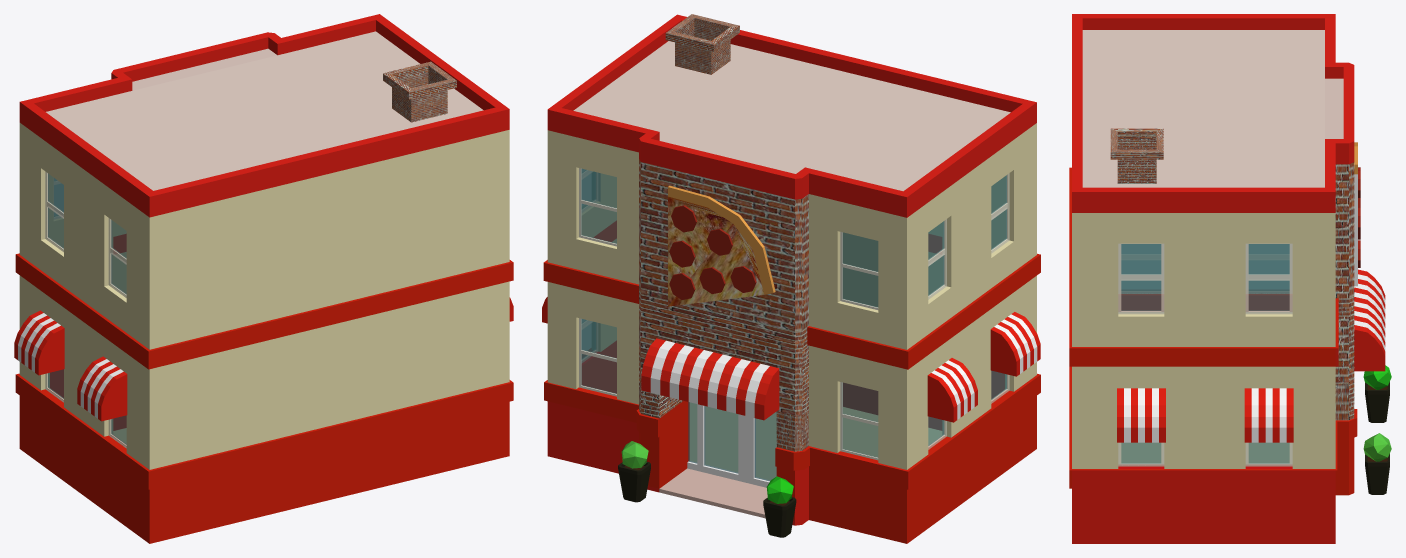
Rendered from pizzeria.glb.
The picture shows the model from 3 angles, left to right: view 1: azimuth 30°, elevation 25°; view 2: azimuth 150°, elevation 25°; view 3: azimuth 270°, elevation 25°; orthographic projection.
Parts seen in each view (by area): view 1: casa_10, tetto_0, tende laterali_1, Cube.007_3, vetri laterali_15, finestre laterali_12; view 2: casa_10, tetto_0, vetri_16, tenda frontale_2, pizza_4, tende laterali_1, vetri porta_14, vetri laterali_15, salame_5, Cube.007_3, porta_13, finestre_11 (+4 smaller); view 3: casa_10, tetto_0, vetri laterali_15, tende laterali_1, finestre laterali_12, tenda frontale_2, Cube.007_3, Cube.001_8, Cube_6, Icosphere.001_9, pizza_4, Icosphere_7.
Part boxes in pixels (box(x1,y1,x2,y2)): casa_10: box(15, 123, 513, 543); tetto_0: box(19, 14, 509, 217); tende laterali_1: box(14, 297, 513, 421); Cube.007_3: box(383, 61, 456, 122); vetri laterali_15: box(48, 173, 126, 444); finestre laterali_12: box(45, 171, 126, 448); casa_10: box(543, 123, 1040, 543); tetto_0: box(547, 14, 1036, 217); vetri_16: box(581, 169, 878, 457); tenda frontale_2: box(641, 338, 779, 420); pizza_4: box(668, 185, 775, 306); tende laterali_1: box(542, 297, 1040, 422); vetri porta_14: box(688, 402, 776, 481); vetri laterali_15: box(582, 169, 1006, 445); salame_5: box(669, 205, 756, 299); Cube.007_3: box(665, 14, 739, 74); porta_13: box(687, 404, 769, 487); finestre_11: box(579, 168, 878, 460); casa_10: box(1069, 162, 1357, 543); tetto_0: box(1072, 14, 1354, 212); vetri laterali_15: box(1121, 244, 1289, 463); tende laterali_1: box(1117, 388, 1293, 442); finestre laterali_12: box(1118, 243, 1292, 466); tenda frontale_2: box(1354, 269, 1385, 371); Cube.007_3: box(1110, 128, 1163, 183); Cube.001_8: box(1365, 453, 1389, 494); Cube_6: box(1365, 381, 1389, 422); Icosphere.001_9: box(1363, 433, 1391, 461); pizza_4: box(1354, 142, 1357, 286); Icosphere_7: box(1363, 365, 1391, 389).
Size of the model in its own units: 8.15 by 6.99 by 5.45.
2 materials, 2 textured.
